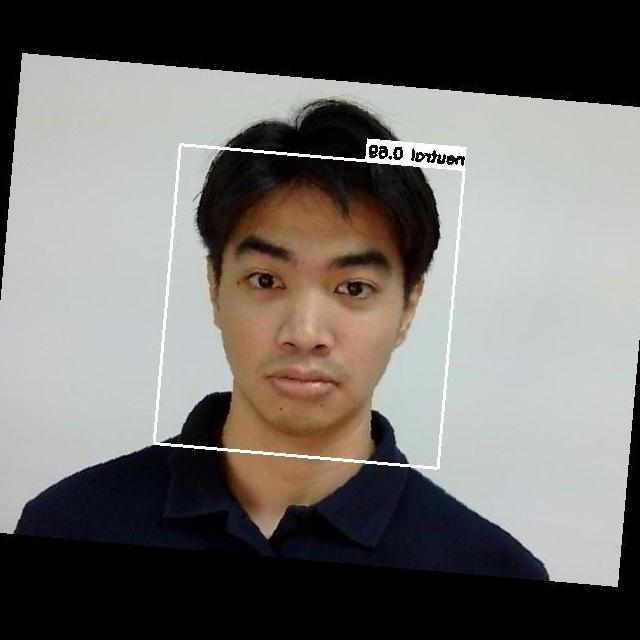Fear: (206, 219, 404, 412)
